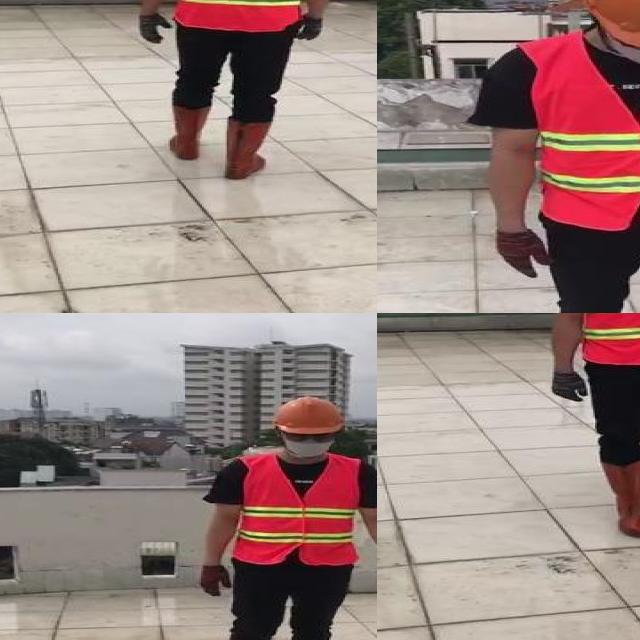boots: (218, 117, 271, 182), (597, 460, 640, 539), (167, 101, 209, 160)
face_mask: (282, 429, 340, 458)
glasses: (281, 429, 338, 446)
hand_glove: (490, 231, 552, 278), (136, 12, 176, 43), (198, 563, 230, 598), (550, 371, 588, 400), (291, 13, 325, 40)
head_helmet: (270, 396, 348, 436)
person: (468, 0, 640, 313), (180, 393, 377, 640), (127, 0, 340, 191), (534, 313, 640, 545)
vest: (522, 35, 640, 229), (233, 454, 356, 565), (172, 0, 307, 30), (573, 313, 640, 366)
